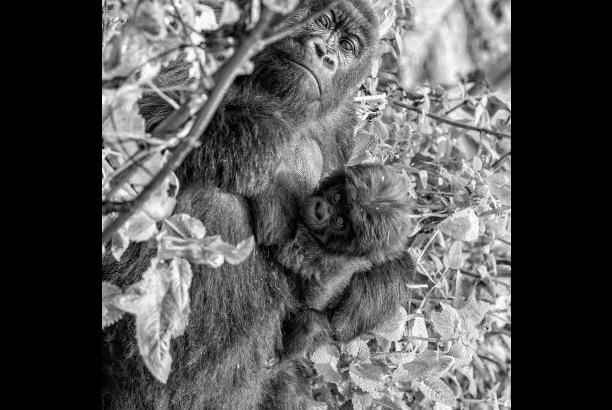goriile_montagne: (109, 0, 412, 410), (266, 153, 414, 390)
